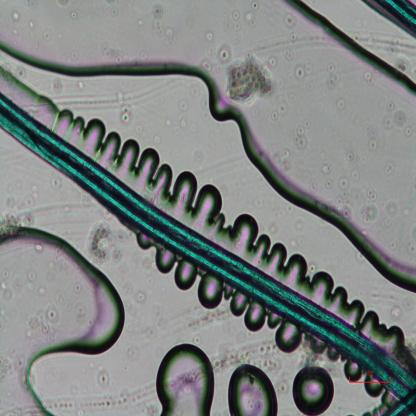Air bubble: (0, 1, 416, 292), (0, 221, 127, 414), (283, 250, 364, 318), (149, 160, 223, 230), (156, 339, 215, 415), (220, 210, 285, 268), (2, 67, 60, 116), (228, 361, 278, 414), (60, 103, 110, 155), (104, 133, 160, 177), (292, 367, 335, 414), (362, 309, 405, 350), (199, 272, 224, 312), (273, 321, 302, 353), (245, 298, 267, 334), (174, 258, 197, 292), (153, 245, 175, 275), (230, 288, 250, 319), (364, 375, 384, 398), (344, 361, 362, 384), (135, 234, 154, 251), (267, 314, 282, 329)
Background material: (220, 46, 275, 108), (224, 336, 280, 378), (88, 30, 130, 68), (228, 1, 265, 38), (0, 266, 42, 298), (332, 171, 362, 214), (86, 218, 115, 262), (58, 283, 92, 319), (264, 137, 294, 175), (150, 5, 178, 45), (382, 99, 412, 136), (360, 117, 384, 161), (279, 14, 299, 65), (380, 191, 401, 231), (6, 185, 38, 211), (267, 90, 294, 119), (0, 209, 28, 234), (35, 315, 60, 340), (362, 189, 378, 228), (342, 140, 362, 170), (126, 285, 147, 312), (163, 112, 187, 135), (98, 397, 134, 412), (295, 117, 309, 149), (92, 371, 115, 390), (326, 62, 341, 88), (46, 77, 66, 96), (382, 232, 402, 251), (296, 61, 316, 80), (359, 66, 378, 86), (205, 29, 220, 54), (216, 44, 232, 63), (390, 296, 403, 319), (112, 85, 126, 104), (409, 216, 416, 252), (120, 103, 132, 124), (37, 27, 51, 41), (333, 96, 344, 112), (9, 10, 22, 22), (201, 60, 213, 73), (321, 162, 332, 176), (30, 244, 43, 255), (75, 76, 84, 90), (58, 0, 72, 8), (180, 98, 186, 112), (66, 12, 77, 18)
Microfibre: (1, 89, 416, 401), (378, 1, 416, 36), (390, 393, 416, 414)
